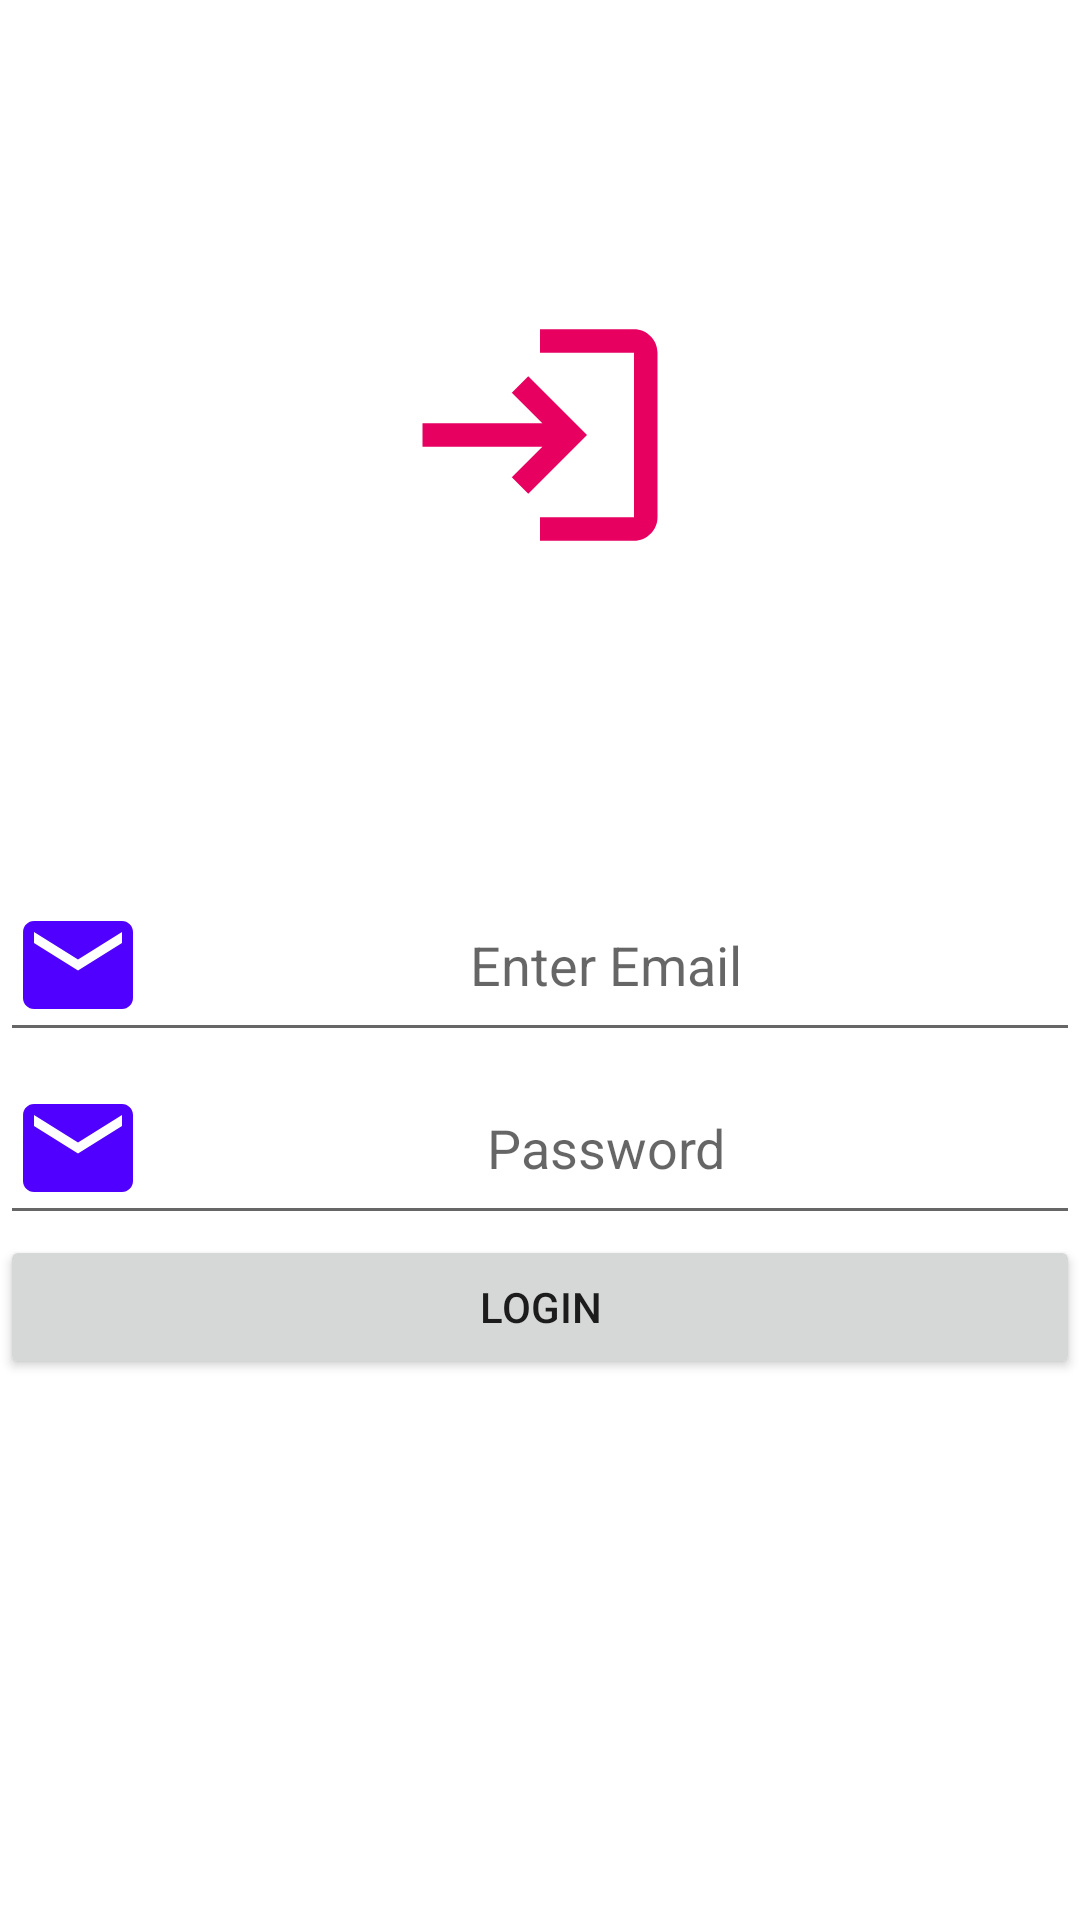

Icon bounding boxes for this 1080x1920 phone screenshot, format (x1, y1, x2, y2):
login: (422, 329, 658, 541)
